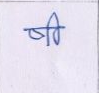i_matra: (49, 12, 62, 44)
